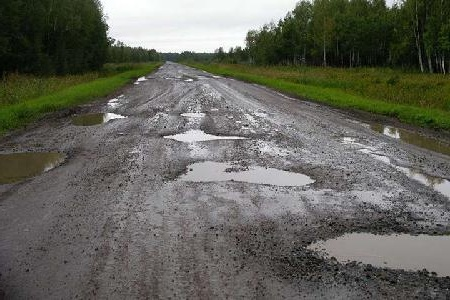pothole: (300, 224, 449, 281), (161, 156, 318, 187), (0, 146, 72, 184), (160, 126, 250, 143), (69, 107, 129, 129), (178, 109, 208, 119), (133, 72, 149, 83)
